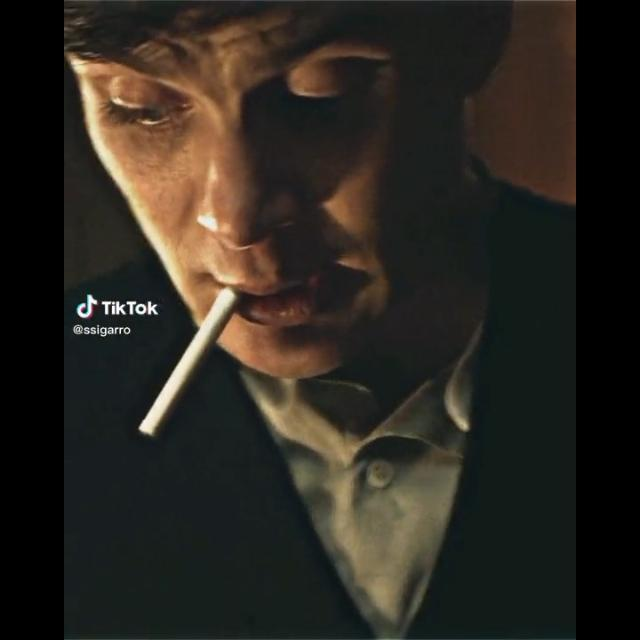rokok: (128, 282, 255, 442)
